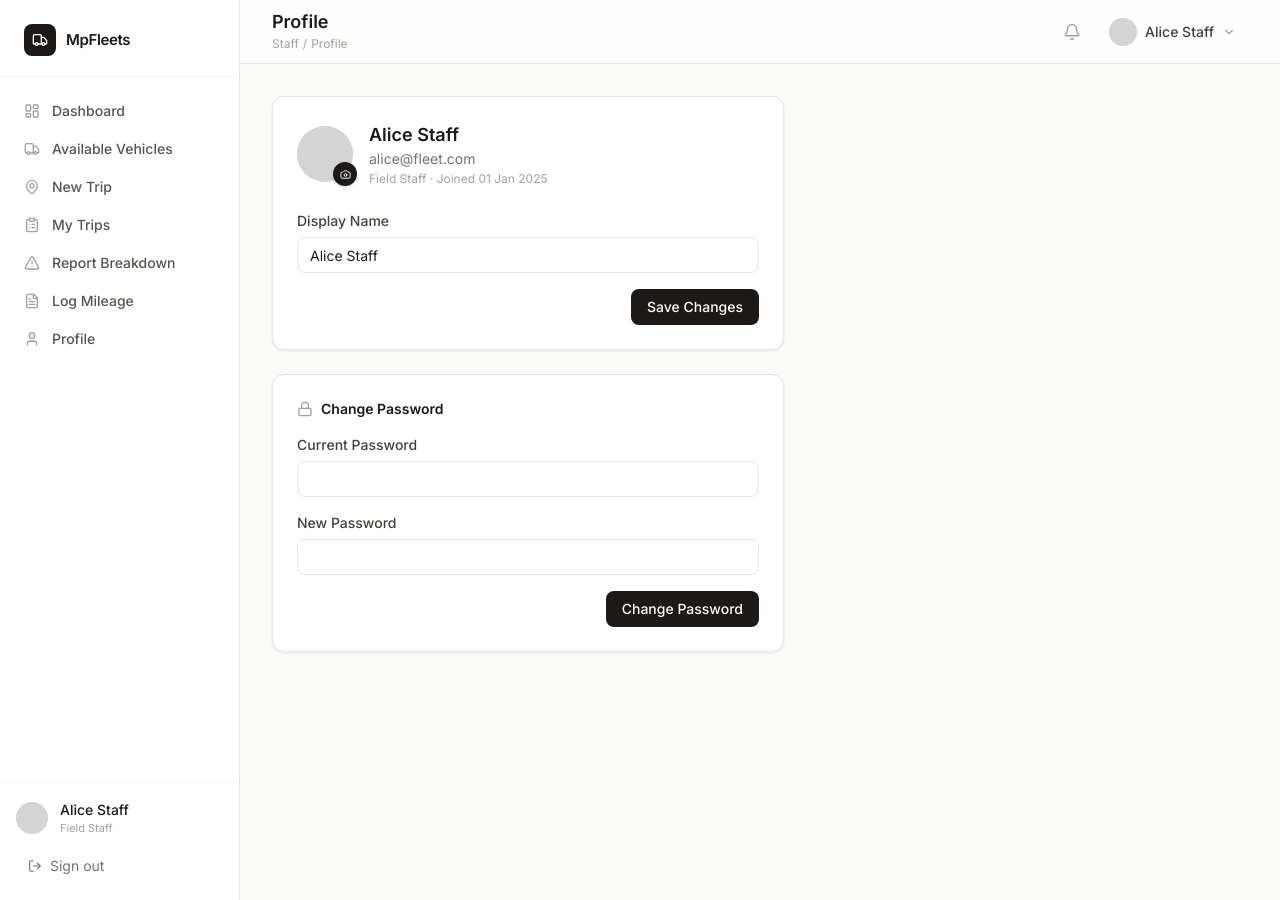
Test: StaffProfilePage — profile picture upload › shows Remove current button only when a profile picture already exists
This screenshot has width=1280, height=900.
Expected: the text "alice@fleet.com" is shown, [369,150,476,167]
Step 1. Click the button titled "Change photo" → coordinates (345, 174), box [333,162,357,186]
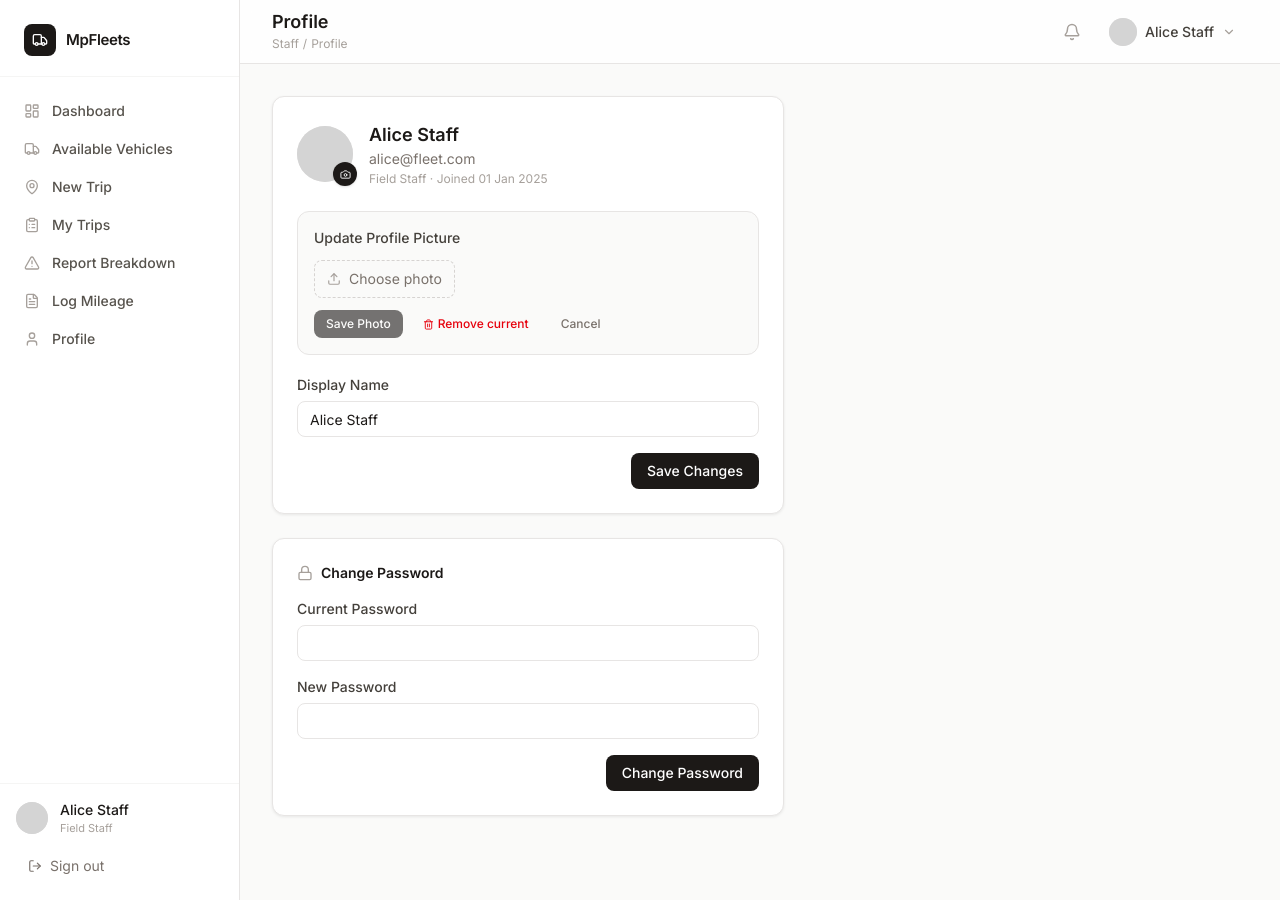
Result: the button "Remove current" is shown at [411,310,541,338]
